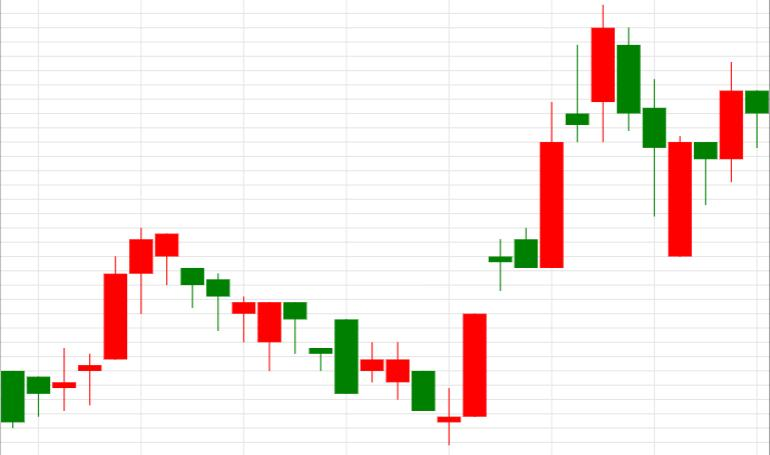morning_star_rise: (181, 267, 487, 445)
